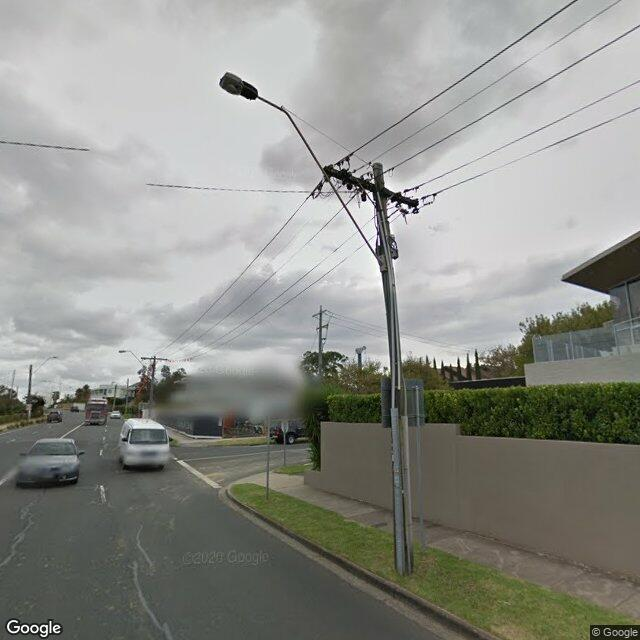crossarm: (310, 151, 437, 225), (141, 357, 169, 362), (312, 310, 328, 318), (316, 324, 329, 331)
streetlight: (220, 69, 385, 272), (118, 350, 152, 377)
timber-pole: (370, 162, 410, 575), (150, 356, 156, 401), (319, 305, 322, 375)
